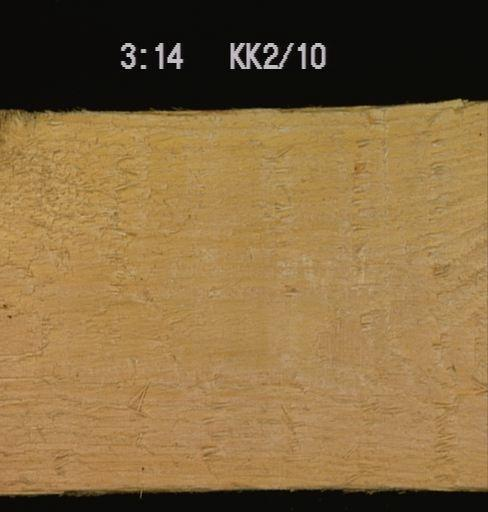small_knot: (0, 302, 22, 320)
